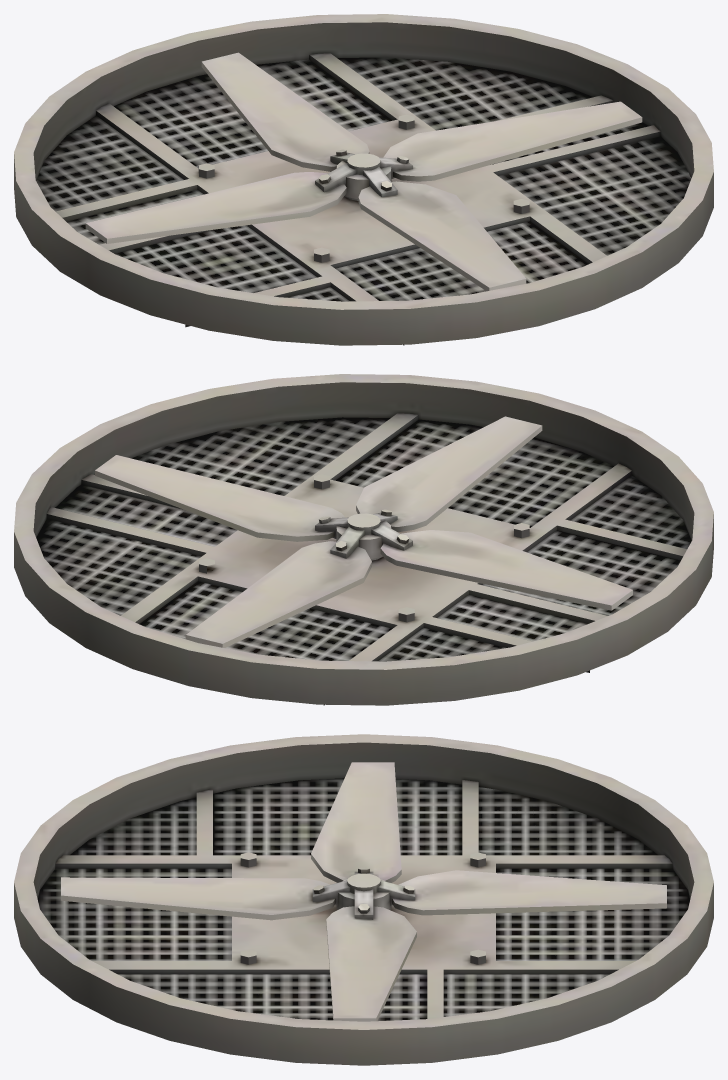
3 renders of one model, top to bottom at view 1: azimuth 30°, elevation 25°; view 2: azimuth 150°, elevation 25°; view 3: azimuth 270°, elevation 25°, orthographic.
Visible parts, largest first — view 1: body0_model0_lod0_mesh0; view 2: body0_model0_lod0_mesh0; view 3: body0_model0_lod0_mesh0.
Boxes of the visible parts, <box> form: body0_model0_lod0_mesh0: <box>14,14,713,345</box>; body0_model0_lod0_mesh0: <box>14,374,713,705</box>; body0_model0_lod0_mesh0: <box>14,734,713,1065</box>.
Size of the model in its own units: 238 by 15.52 by 238.
1 material, 1 textured.
